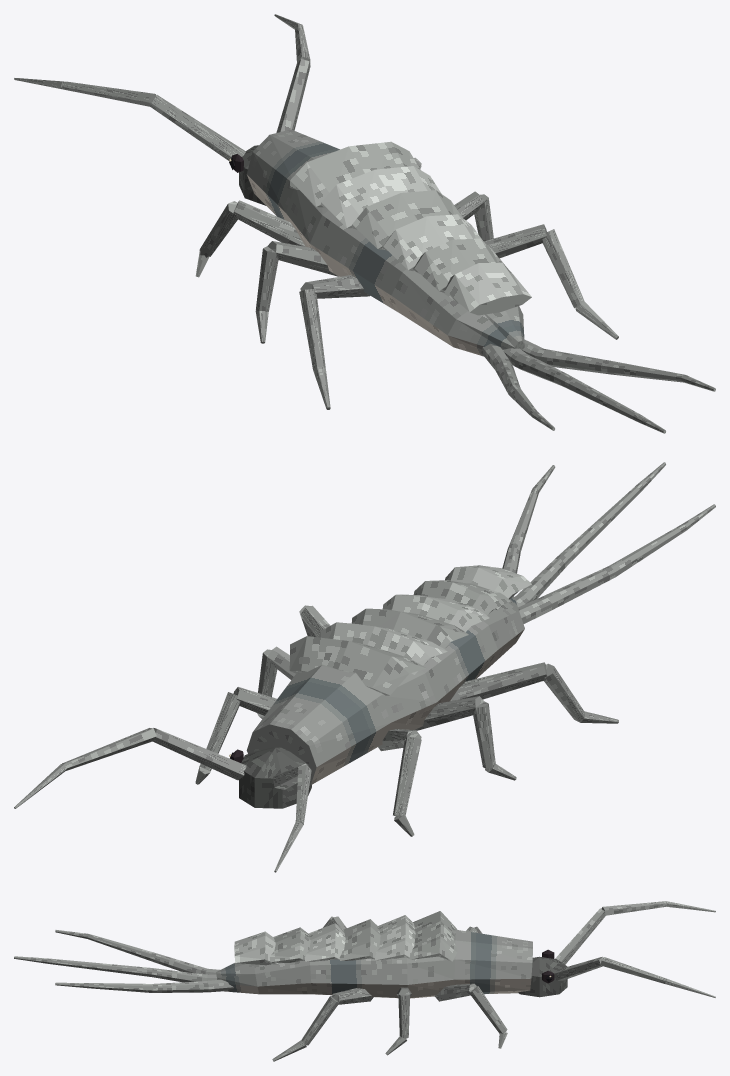
Rendered from mon_silverfish_small.glb.
The picture shows the model from 3 angles, top to bottom: view 1: azimuth 30°, elevation 25°; view 2: azimuth 150°, elevation 25°; view 3: azimuth 270°, elevation 25°; orthographic projection. The views are drawn at different scales.
Parts seen in each view (by area): view 1: closed_body; view 2: closed_body; view 3: closed_body.
Boxes of the visible parts, x1,y1,x2,y2 form: closed_body: (14,14,715,433); closed_body: (14,462,715,872); closed_body: (14,901,715,1061).
Bounding box in the file's own units: 0.694 × 0.3123 × 2.14.
1 material, 1 textured.
